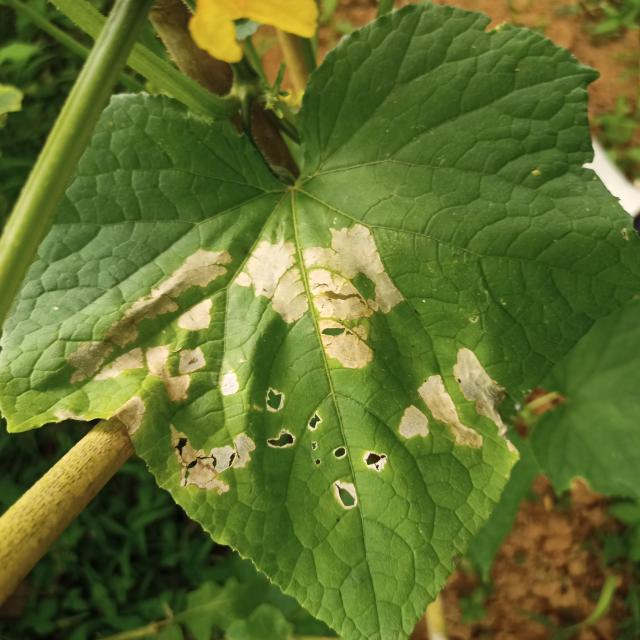disease_cucumber: (61, 221, 513, 504)
